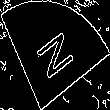N_SW: (31, 24, 79, 86)
